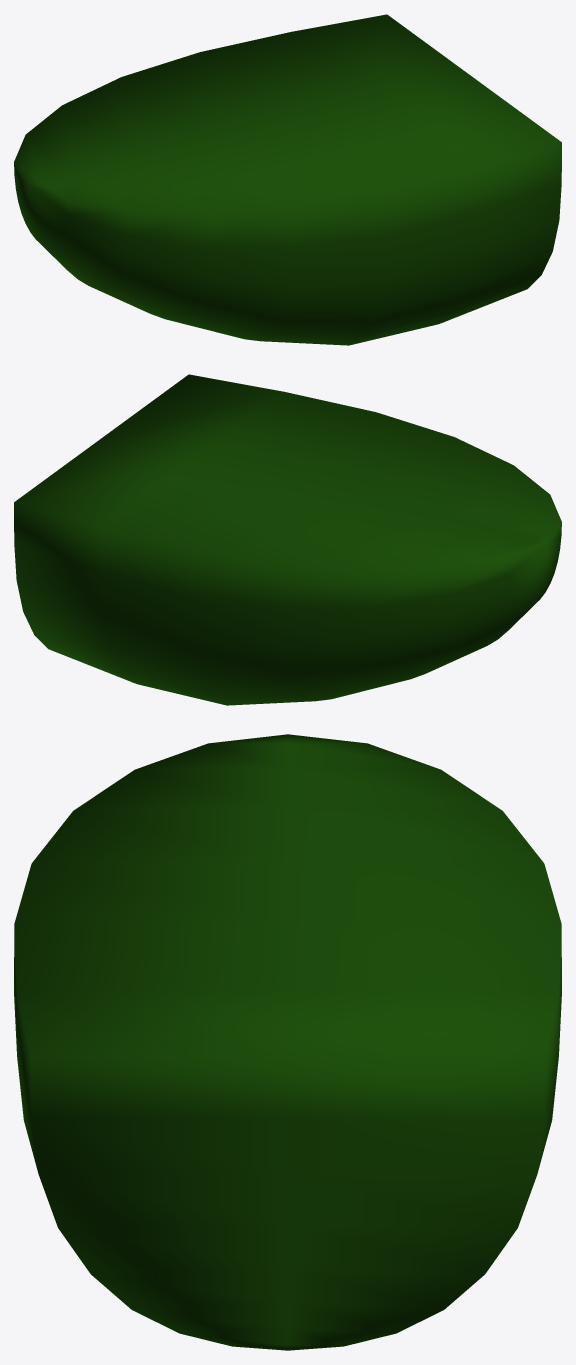
Rendered from fishMouth.glb.
3 renders of one model, top to bottom at view 1: azimuth 30°, elevation 25°; view 2: azimuth 150°, elevation 25°; view 3: azimuth 270°, elevation 25°, orthographic. The views are drawn at different scales.
Parts seen in each view (by area): view 1: Mouth; view 2: Mouth; view 3: Mouth.
Boxes of the visible parts, bbox=[...] form: Mouth: bbox=[14, 14, 561, 345]; Mouth: bbox=[14, 374, 561, 705]; Mouth: bbox=[14, 734, 561, 1350].
Bounding box in the file's own units: 1.67 × 0.743 × 1.21.
